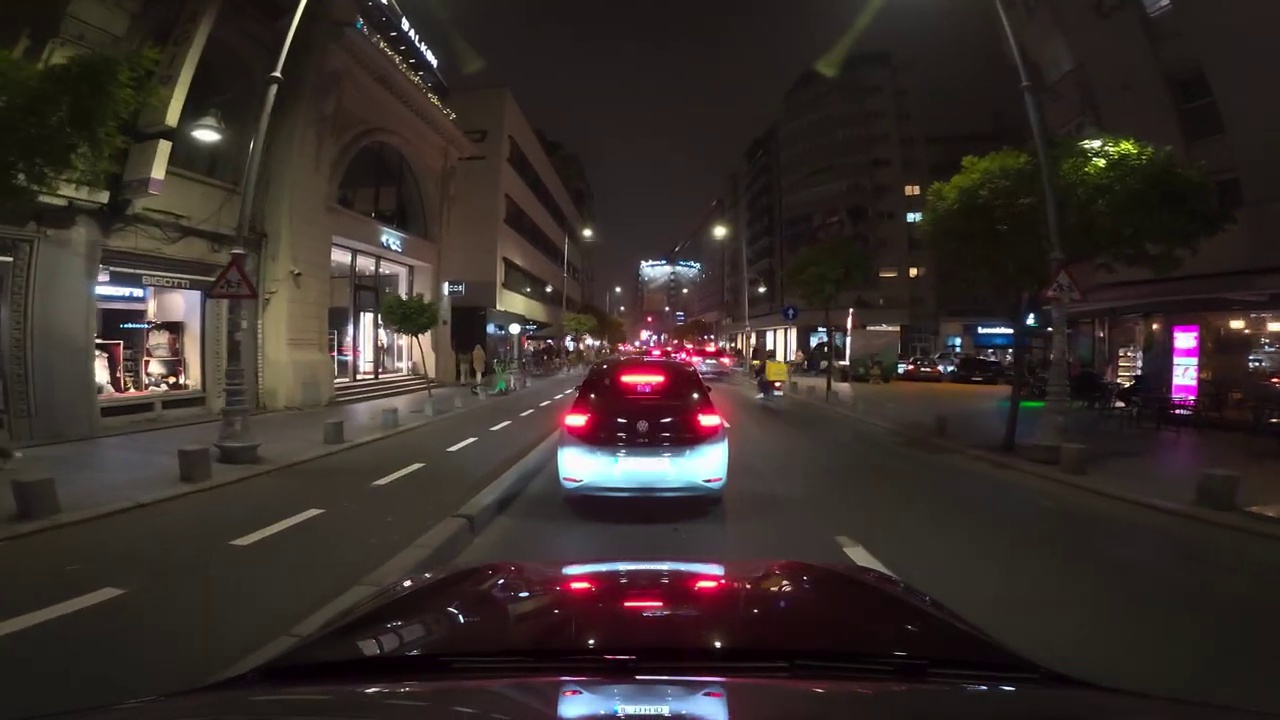acesa: (708, 219, 733, 245), (578, 223, 598, 245)
